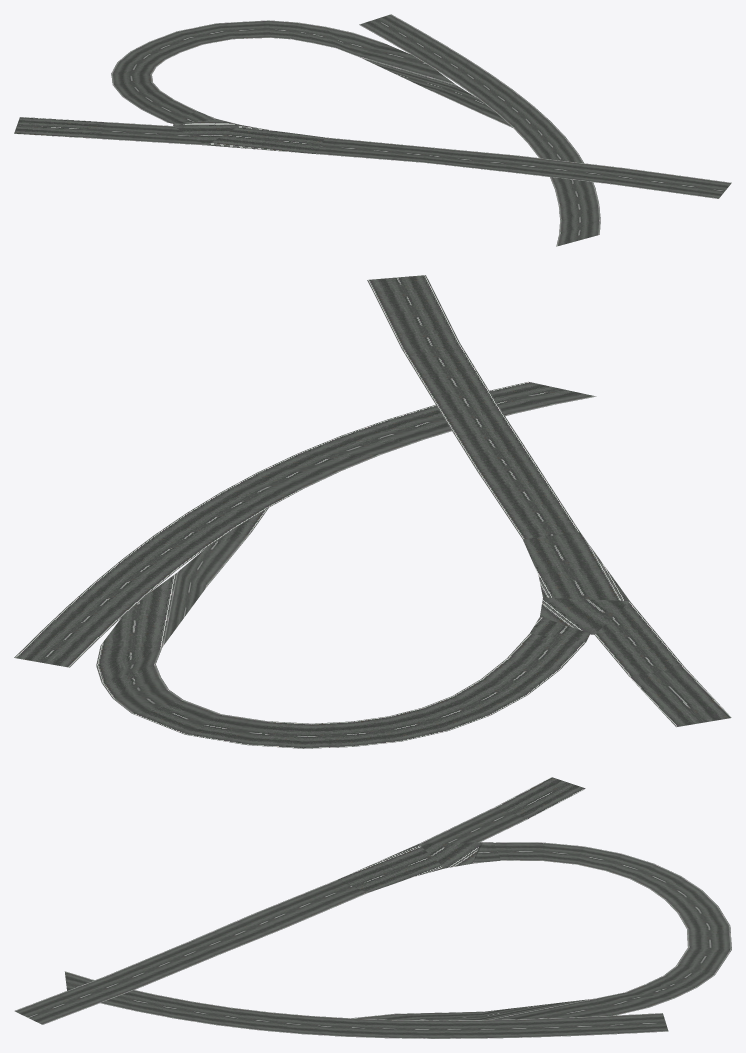
The model's file is lodcuntwroad17.obj.
3 views of the same model, one above another, from view 1: azimuth 30°, elevation 25°; view 2: azimuth 150°, elevation 25°; view 3: azimuth 270°, elevation 25° (orthographic). The views are drawn at different scales.
Visible parts, largest first — view 1: LODcuntwroad17; view 2: LODcuntwroad17; view 3: LODcuntwroad17.
Part boxes in pixels (box(x1,y1,x2,y2)): LODcuntwroad17: box(14, 14, 731, 246); LODcuntwroad17: box(14, 275, 731, 748); LODcuntwroad17: box(14, 777, 731, 1038).
Size of the model in its own units: 165 by 11.31 by 197.
Materials: 1 (1 with a texture image).
